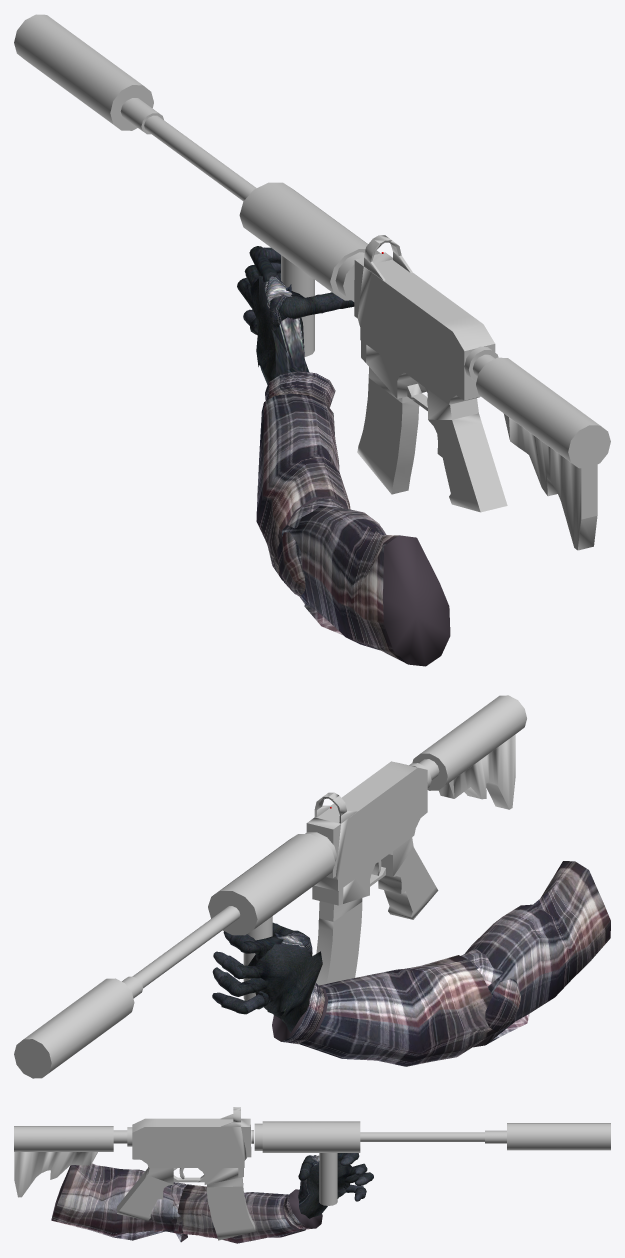
Rendered from m4sopmod_ads.fbx.
The picture shows the model from 3 angles, top to bottom: view 1: azimuth 30°, elevation 25°; view 2: azimuth 150°, elevation 25°; view 3: azimuth 270°, elevation 25°; orthographic projection. The views are drawn at different scales.
Parts seen in each view (by area): view 1: larm, m4_body, m4_stock, m4_grip, m4_silencer, lhand, m4_pistolgrip, m4_clip, m4_barrel, m4_tommygrip; view 2: larm, m4_body, m4_stock, lhand, m4_grip, m4_silencer, m4_clip, m4_pistolgrip, m4_barrel, m4_tommygrip, m4_ring; view 3: larm, m4_body, m4_stock, m4_grip, m4_silencer, lhand, m4_clip, m4_pistolgrip, m4_barrel, m4_tommygrip, m4_trigger, m4_ring.
Part boxes in pixels (bbox=[...]): larm: bbox=[256, 371, 450, 666]; m4_body: bbox=[354, 252, 495, 404]; m4_stock: bbox=[464, 346, 610, 550]; m4_grip: bbox=[239, 182, 380, 301]; m4_silencer: bbox=[14, 14, 153, 130]; lhand: bbox=[237, 246, 354, 384]; m4_pistolgrip: bbox=[428, 390, 507, 512]; m4_clip: bbox=[357, 367, 419, 494]; m4_barrel: bbox=[120, 98, 256, 201]; m4_tommygrip: bbox=[281, 255, 314, 356]; larm: bbox=[272, 861, 610, 1066]; m4_body: bbox=[306, 761, 427, 905]; m4_stock: bbox=[409, 695, 526, 809]; lhand: bbox=[212, 922, 322, 1032]; m4_grip: bbox=[208, 832, 336, 935]; m4_silencer: bbox=[14, 978, 134, 1078]; m4_clip: bbox=[316, 898, 362, 985]; m4_pistolgrip: bbox=[378, 837, 438, 919]; m4_barrel: bbox=[122, 906, 240, 998]; m4_tommygrip: bbox=[243, 916, 272, 1000]; m4_ring: bbox=[314, 792, 357, 823]; larm: bbox=[51, 1163, 322, 1243]; m4_body: bbox=[132, 1118, 251, 1184]; m4_stock: bbox=[14, 1126, 132, 1197]; m4_grip: bbox=[251, 1121, 360, 1152]; m4_silencer: bbox=[507, 1123, 610, 1150]; lhand: bbox=[298, 1153, 373, 1218]; m4_clip: bbox=[207, 1177, 255, 1240]; m4_pistolgrip: bbox=[117, 1166, 173, 1220]; m4_barrel: bbox=[360, 1130, 506, 1143]; m4_tommygrip: bbox=[319, 1153, 337, 1205]; m4_trigger: bbox=[173, 1168, 204, 1182]; m4_ring: bbox=[220, 1107, 240, 1126].
Size of the model in its own units: 9.14 by 13.27 by 43.7.
